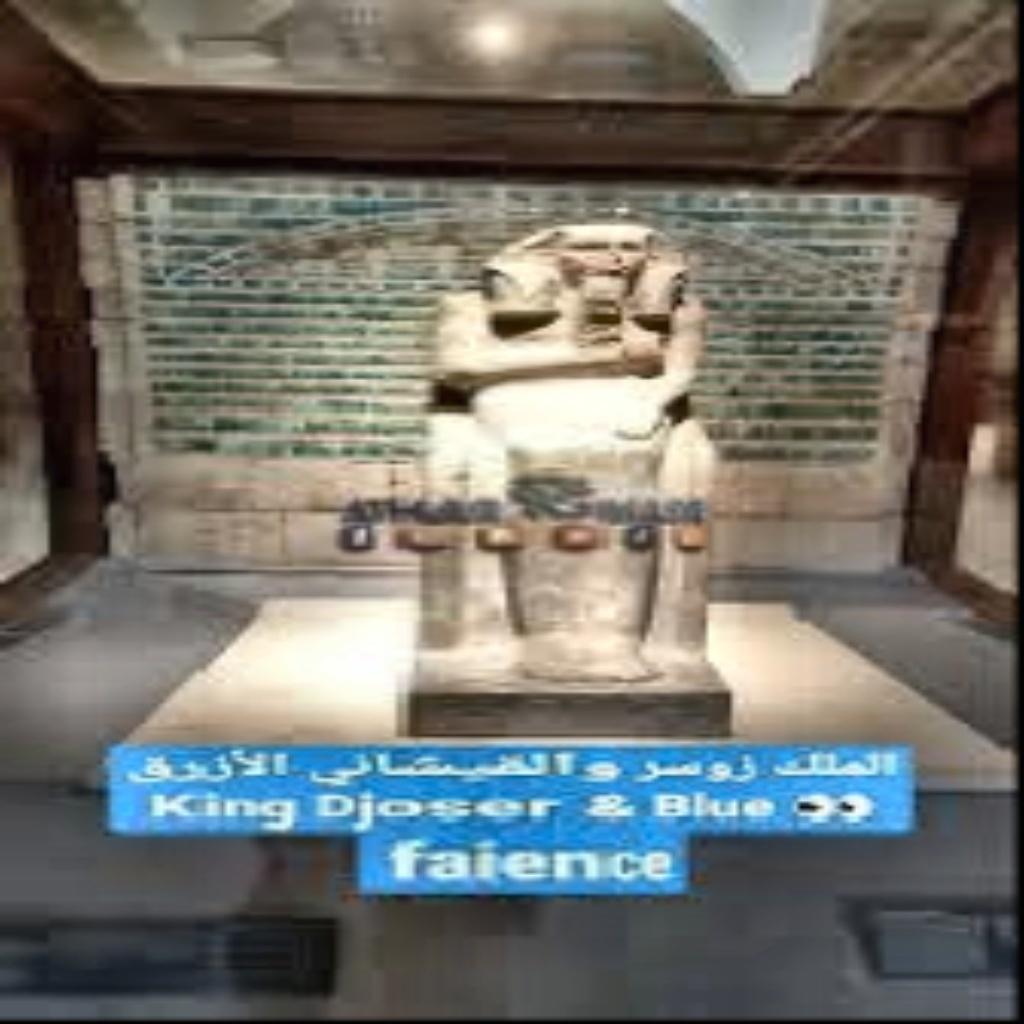Statue of King Zoser: (366, 215, 744, 734)
